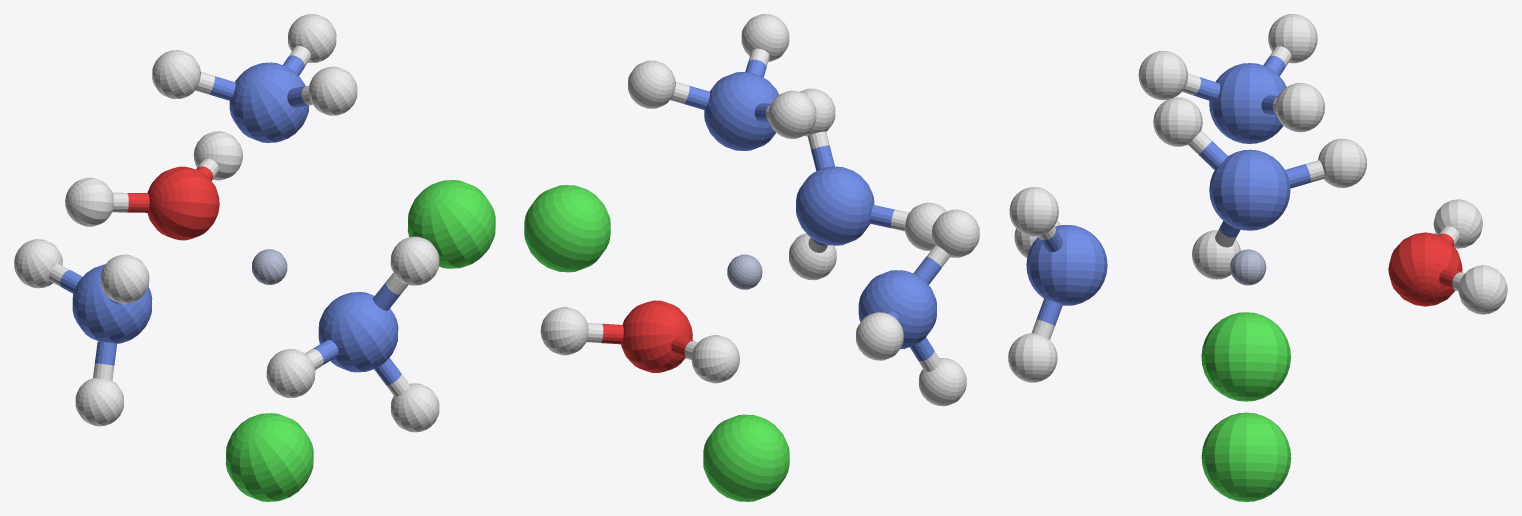
Rendered from fac-acuotriammindiclorohierro.gltf.
3 renders of one model, left to right at view 1: azimuth 30°, elevation 25°; view 2: azimuth 150°, elevation 25°; view 3: azimuth 270°, elevation 25°, orthographic.
Visible parts, largest first — view 1: ShapeSphere.010_ShapeSphere.011, ShapeSphere.011_ShapeSphere.012, ShapeSphere.001_ShapeSphere.002, ShapeSphere.004_ShapeSphere.005, ShapeSphere.015_ShapeSphere.016, ShapeSphere.007_ShapeSphere.008, ShapeSphere.013_ShapeSphere.014, ShapeSphere.014_ShapeSphere.015, ShapeSphere.012_ShapeSphere.013, ShapeSphere.003_ShapeSphere.004, ShapeSphere.016_ShapeSphere.017, ShapeSphere.006_ShapeSphere.007 (+6 smaller); view 2: ShapeSphere.011_ShapeSphere.012, ShapeSphere.010_ShapeSphere.011, ShapeSphere.001_ShapeSphere.002, ShapeSphere.004_ShapeSphere.005, ShapeSphere.015_ShapeSphere.016, ShapeSphere.007_ShapeSphere.008, ShapeSphere.016_ShapeSphere.017, ShapeSphere.017_ShapeSphere, ShapeSphere.008_ShapeSphere.009, ShapeSphere.006_ShapeSphere.007, ShapeSphere.005_ShapeSphere.006, ShapeSphere.014_ShapeSphere.015 (+6 smaller); view 3: ShapeSphere.011_ShapeSphere.012, ShapeSphere.010_ShapeSphere.011, ShapeSphere.007_ShapeSphere.008, ShapeSphere.001_ShapeSphere.002, ShapeSphere.004_ShapeSphere.005, ShapeSphere.015_ShapeSphere.016, ShapeSphere.003_ShapeSphere.004, ShapeSphere.005_ShapeSphere.006, ShapeSphere.012_ShapeSphere.013, ShapeSphere.002_ShapeSphere.003, ShapeSphere.014_ShapeSphere.015, ShapeSphere.017_ShapeSphere (+5 smaller).
Boxes of the visible parts, <box> form: ShapeSphere.010_ShapeSphere.011: <box>225,413,313,501</box>; ShapeSphere.011_ShapeSphere.012: <box>407,180,495,268</box>; ShapeSphere.001_ShapeSphere.002: <box>318,292,398,372</box>; ShapeSphere.004_ShapeSphere.005: <box>229,62,308,142</box>; ShapeSphere.015_ShapeSphere.016: <box>147,166,219,240</box>; ShapeSphere.007_ShapeSphere.008: <box>72,264,152,343</box>; ShapeSphere.013_ShapeSphere.014: <box>266,349,315,397</box>; ShapeSphere.014_ShapeSphere.015: <box>100,254,149,303</box>; ShapeSphere.012_ShapeSphere.013: <box>309,66,357,115</box>; ShapeSphere.003_ShapeSphere.004: <box>390,236,439,285</box>; ShapeSphere.016_ShapeSphere.017: <box>65,177,113,226</box>; ShapeSphere.006_ShapeSphere.007: <box>152,50,200,99</box>; ShapeSphere.011_ShapeSphere.012: <box>524,185,610,272</box>; ShapeSphere.010_ShapeSphere.011: <box>703,414,789,501</box>; ShapeSphere.001_ShapeSphere.002: <box>796,166,874,245</box>; ShapeSphere.004_ShapeSphere.005: <box>704,72,778,150</box>; ShapeSphere.015_ShapeSphere.016: <box>621,300,692,372</box>; ShapeSphere.007_ShapeSphere.008: <box>858,270,936,349</box>; ShapeSphere.016_ShapeSphere.017: <box>691,335,739,383</box>; ShapeSphere.017_ShapeSphere: <box>540,307,588,355</box>; ShapeSphere.008_ShapeSphere.009: <box>856,312,903,360</box>; ShapeSphere.006_ShapeSphere.007: <box>768,90,816,138</box>; ShapeSphere.005_ShapeSphere.006: <box>628,60,675,108</box>; ShapeSphere.014_ShapeSphere.015: <box>932,209,979,257</box>; ShapeSphere.011_ShapeSphere.012: <box>1201,312,1290,401</box>; ShapeSphere.010_ShapeSphere.011: <box>1201,412,1291,501</box>; ShapeSphere.007_ShapeSphere.008: <box>1209,149,1290,230</box>; ShapeSphere.001_ShapeSphere.002: <box>1026,225,1107,305</box>; ShapeSphere.004_ShapeSphere.005: <box>1209,63,1286,143</box>; ShapeSphere.015_ShapeSphere.016: <box>1388,232,1462,306</box>; ShapeSphere.003_ShapeSphere.004: <box>1009,187,1058,236</box>; ShapeSphere.005_ShapeSphere.006: <box>1275,83,1324,132</box>; ShapeSphere.012_ShapeSphere.013: <box>1138,51,1187,100</box>; ShapeSphere.002_ShapeSphere.003: <box>1008,333,1057,382</box>; ShapeSphere.014_ShapeSphere.015: <box>1153,97,1202,146</box>; ShapeSphere.017_ShapeSphere: <box>1458,265,1507,314</box>.
Bounding box in the file's own units: 4.99 × 5.08 × 5.05.
